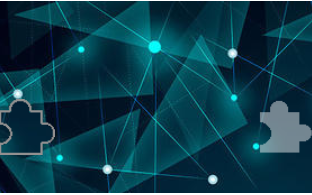target: (248, 97, 312, 157)
